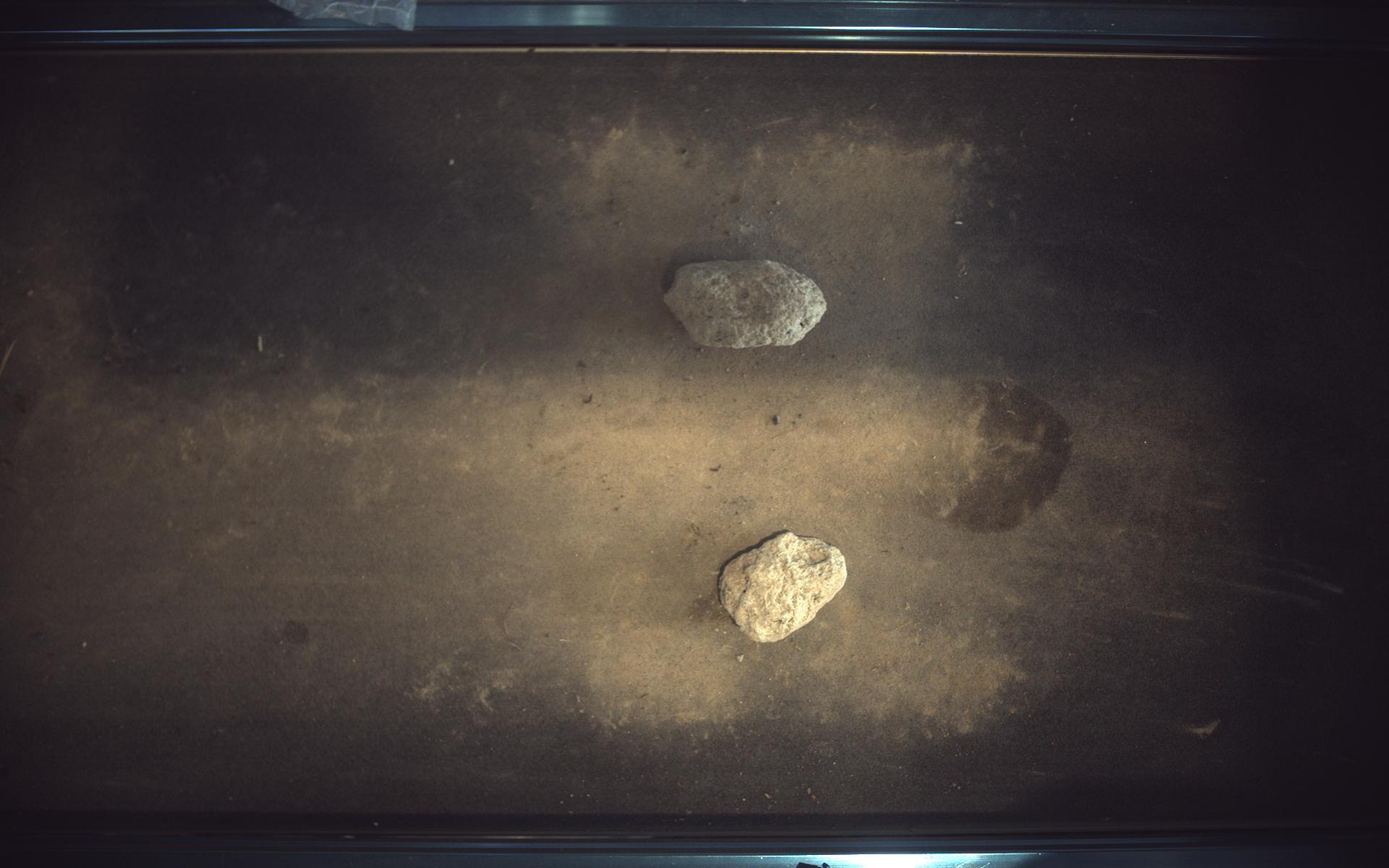stone: (665, 260, 828, 348), (720, 532, 849, 643)
